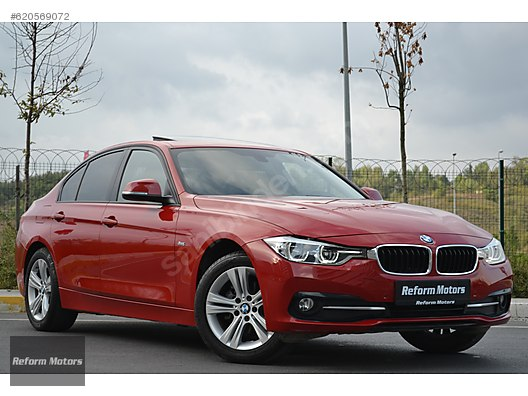bmw: (13, 131, 516, 361)
